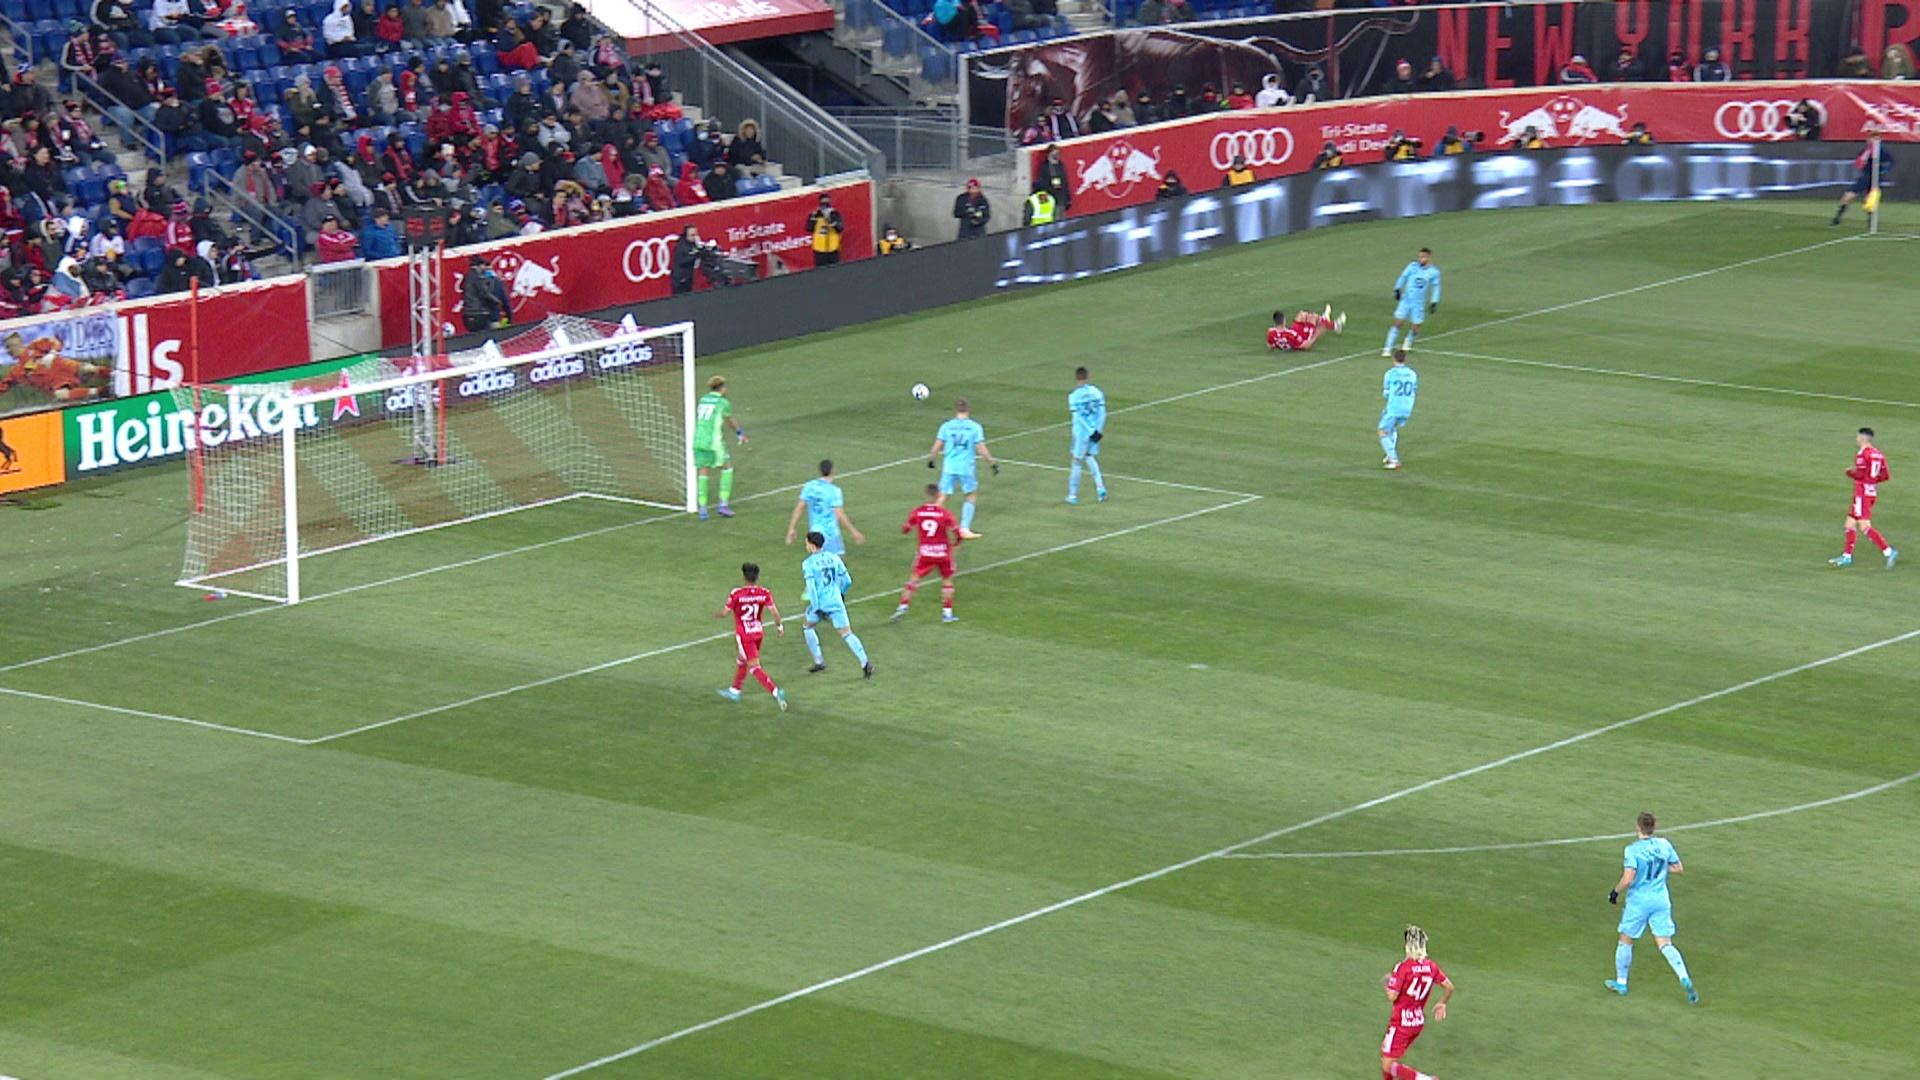football: (911, 381, 931, 402)
